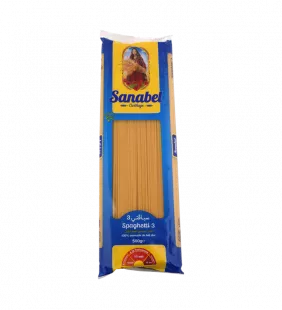SANABEL CARTHAGE: (92, 20, 195, 284)
